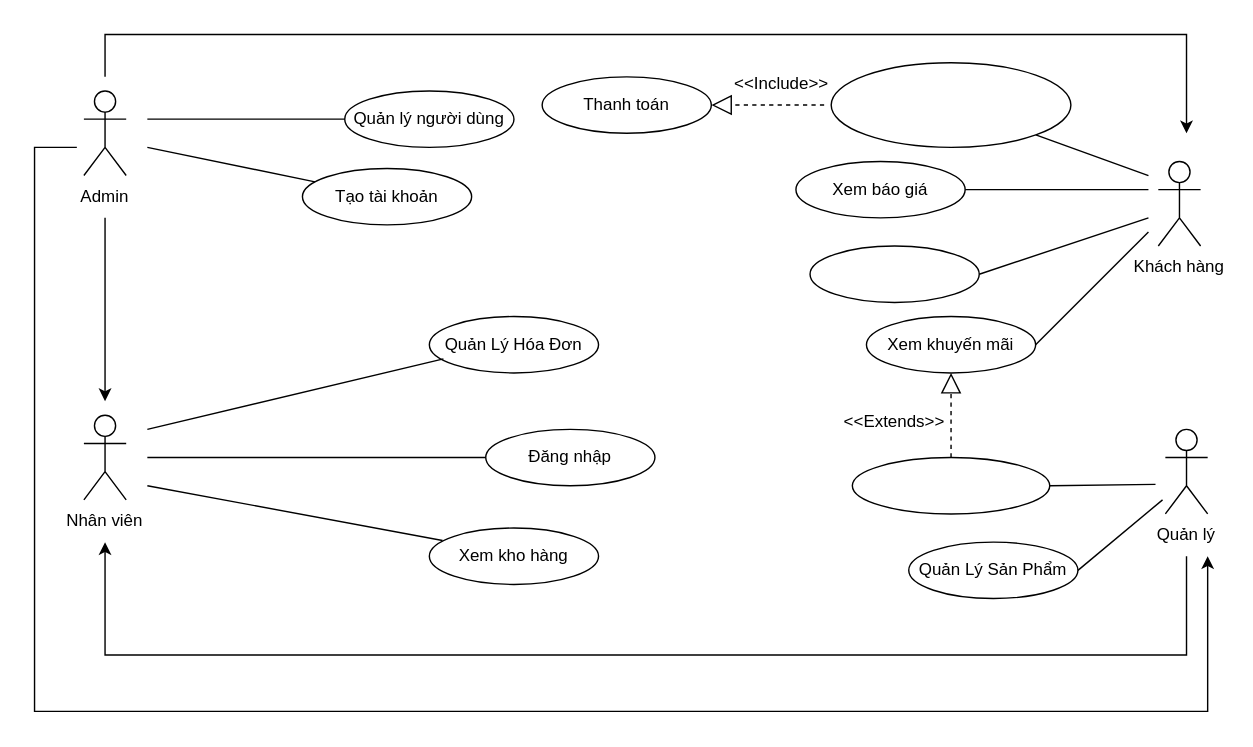
This 1253x747 diagram has some shape labels left out. The shapes that lost their labels are listed below. From the top down, each one's centre as x and y in pixels, then its label:
pixel 950 104: Quản lý đơn hàng cá nhân
pixel 894 273: Đặt hàng
pixel 950 485: Quản Lý Khuyến Mãi
